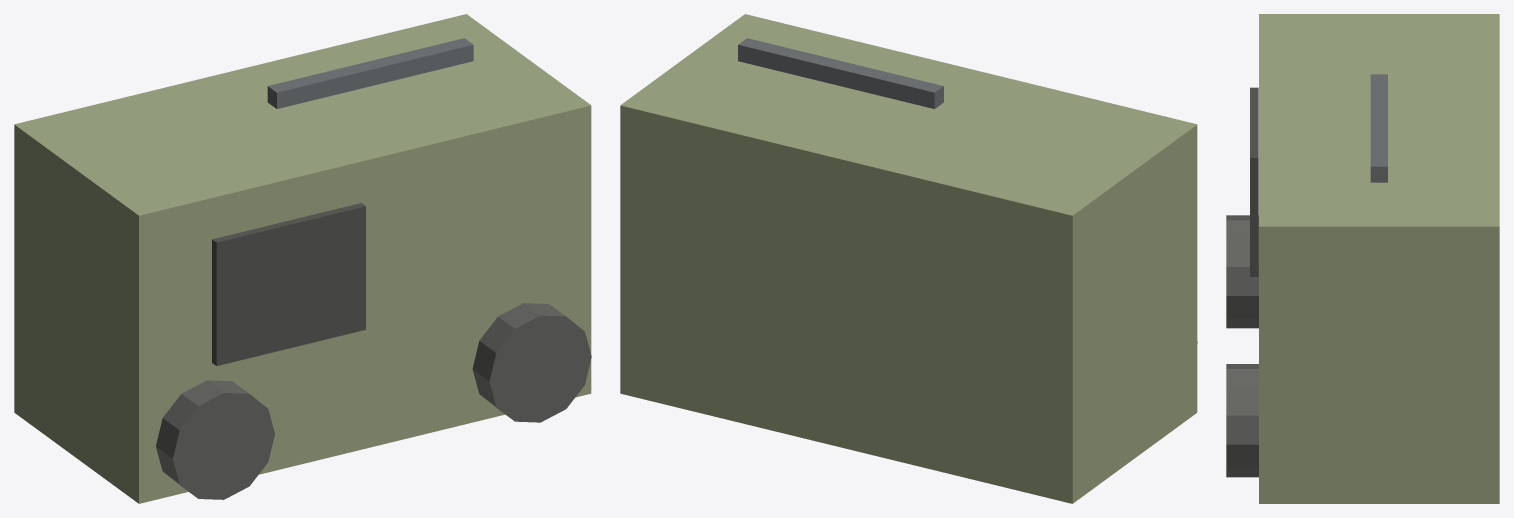
File: generator_01.glb
3 views of the same model, side by side, from view 1: azimuth 30°, elevation 25°; view 2: azimuth 150°, elevation 25°; view 3: azimuth 270°, elevation 25° (orthographic). The views are drawn at different scales.
Visible parts, largest first — view 1: body, panel, wheel0.40249999999999997, wheel-0.40249999999999997, handle; view 2: body, handle; view 3: body, wheel0.40249999999999997, wheel-0.40249999999999997, handle, panel.
Boxes of the visible parts, box(x1,y1,x2,y2) form: body: box(14, 14, 591, 503); panel: box(212, 203, 365, 365); wheel0.40249999999999997: box(472, 303, 591, 422); wheel-0.40249999999999997: box(156, 380, 274, 499); handle: box(267, 38, 473, 108); body: box(620, 14, 1197, 503); handle: box(738, 38, 943, 108); body: box(1259, 14, 1499, 503); wheel0.40249999999999997: box(1226, 364, 1258, 477); wheel-0.40249999999999997: box(1226, 215, 1258, 328); handle: box(1370, 74, 1387, 182); panel: box(1250, 87, 1258, 276).
Bounding box in the file's own units: 1.15 × 0.78 × 0.625.
